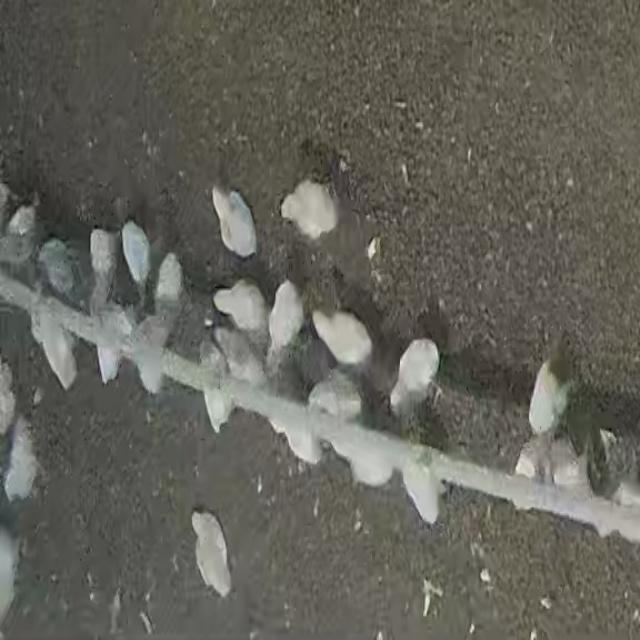chicken: (546, 428, 591, 523), (211, 320, 269, 392), (310, 307, 374, 368), (190, 509, 232, 598), (209, 184, 259, 258), (528, 356, 571, 436), (280, 179, 336, 239), (336, 430, 396, 486), (309, 366, 362, 429), (392, 338, 441, 405), (212, 278, 268, 336), (4, 416, 40, 504), (37, 314, 78, 390), (200, 337, 232, 432), (514, 433, 548, 518), (271, 404, 319, 464), (96, 289, 126, 383), (267, 279, 305, 353), (130, 325, 169, 393), (404, 454, 440, 525), (150, 252, 183, 329), (39, 239, 79, 302), (120, 219, 152, 290), (89, 227, 120, 299)
